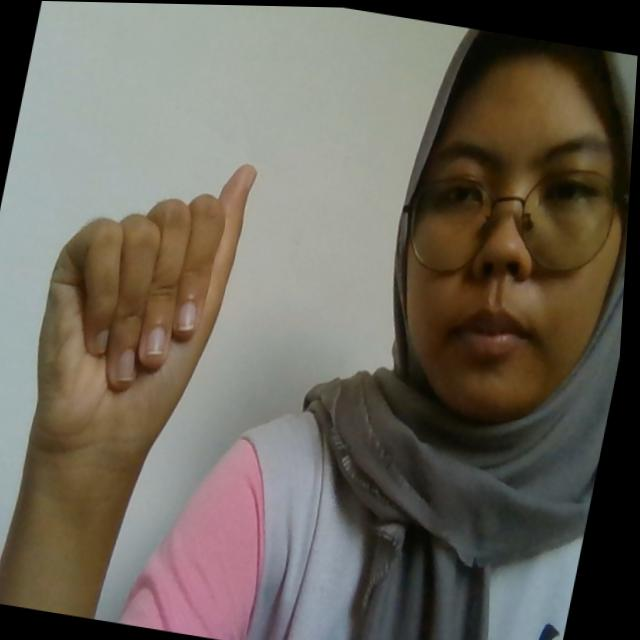A: (24, 133, 264, 463)
